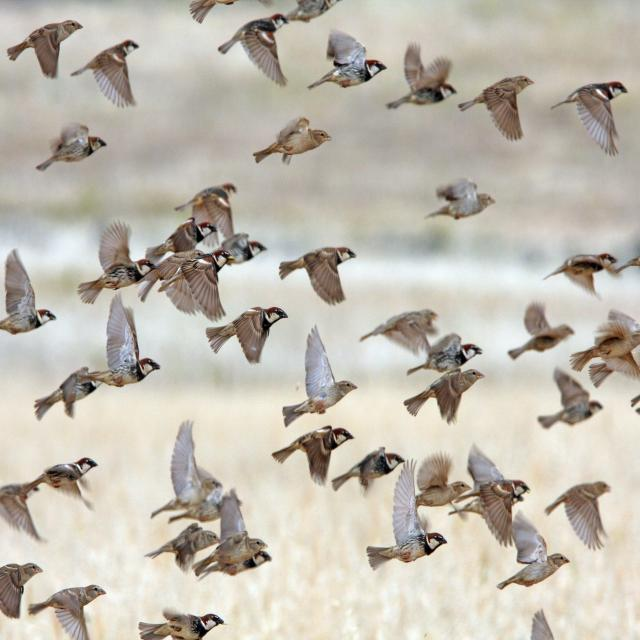bird: (365, 460, 450, 571), (401, 332, 486, 423), (282, 322, 356, 421), (153, 420, 225, 520), (498, 512, 574, 594), (553, 76, 627, 158), (73, 33, 152, 109), (88, 302, 156, 389), (458, 70, 536, 144), (355, 304, 442, 368), (192, 500, 269, 572), (220, 13, 291, 90), (20, 447, 104, 510), (269, 424, 350, 488), (454, 476, 530, 543), (24, 580, 109, 637), (205, 303, 283, 365), (249, 117, 333, 173), (549, 479, 613, 550), (280, 246, 356, 305), (392, 43, 461, 107), (30, 122, 111, 176), (1, 250, 51, 335), (34, 362, 105, 421), (308, 36, 381, 93), (539, 367, 602, 431), (90, 220, 150, 287), (544, 248, 621, 300), (571, 318, 640, 376), (508, 302, 574, 359), (424, 178, 499, 228), (144, 216, 216, 268), (146, 523, 220, 572), (0, 477, 50, 546), (174, 180, 235, 236), (0, 560, 49, 626), (191, 230, 263, 274), (138, 604, 225, 640)
